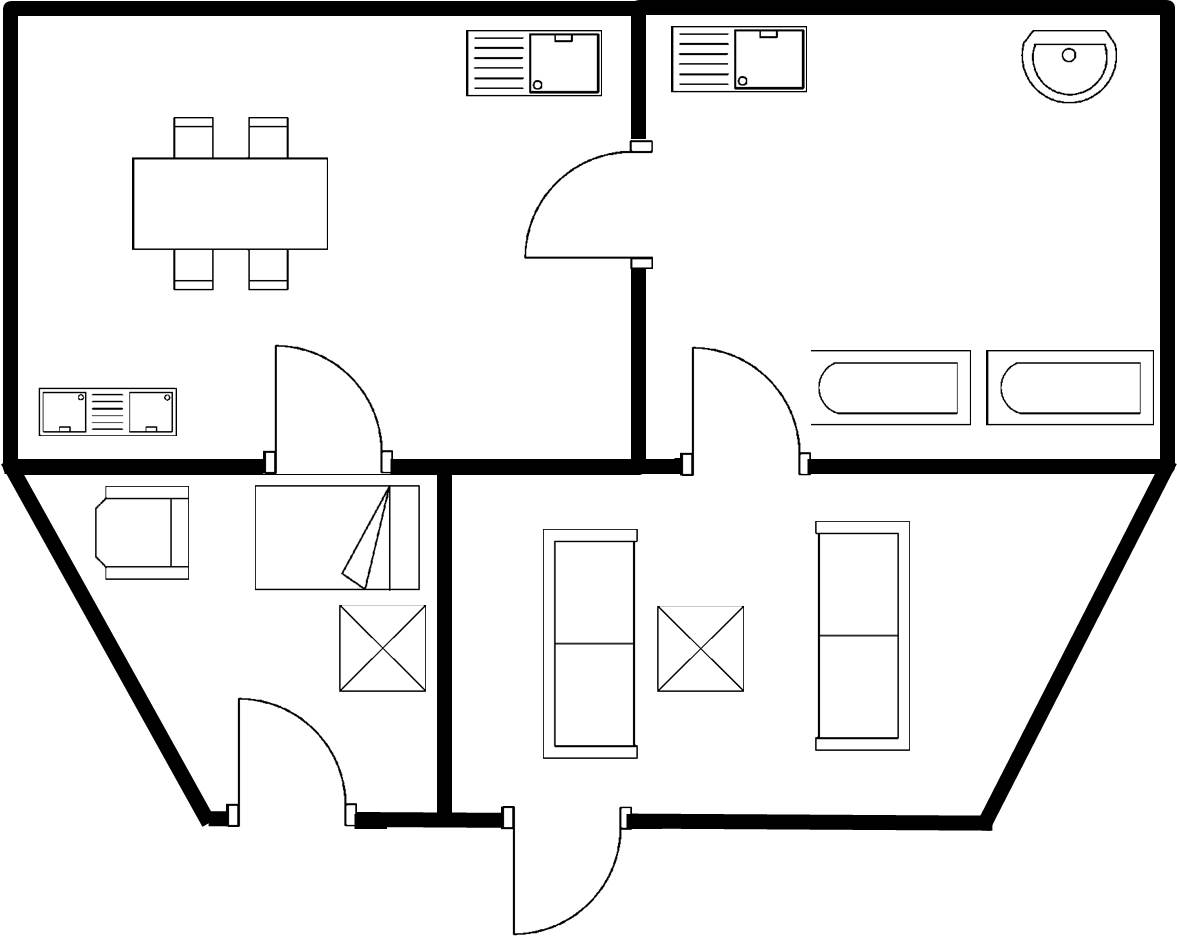armchair: (87, 478, 208, 589)
bed: (247, 476, 428, 597)
coffee_table: (647, 597, 755, 700), (331, 597, 434, 699)
dining_table: (125, 107, 337, 297)
large_sofa: (802, 512, 918, 760), (532, 519, 646, 769)
sink: (458, 23, 610, 107), (661, 19, 819, 99)
small_sink: (1011, 22, 1128, 110)
tub: (977, 340, 1158, 441), (794, 341, 981, 436)
twin_sink: (30, 380, 184, 446)
